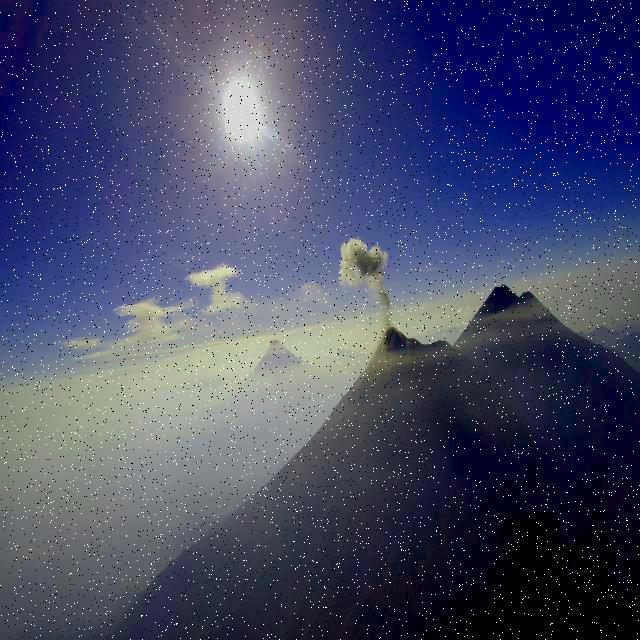Plume: (336, 238, 390, 342)
Summit: (374, 328, 454, 364)
